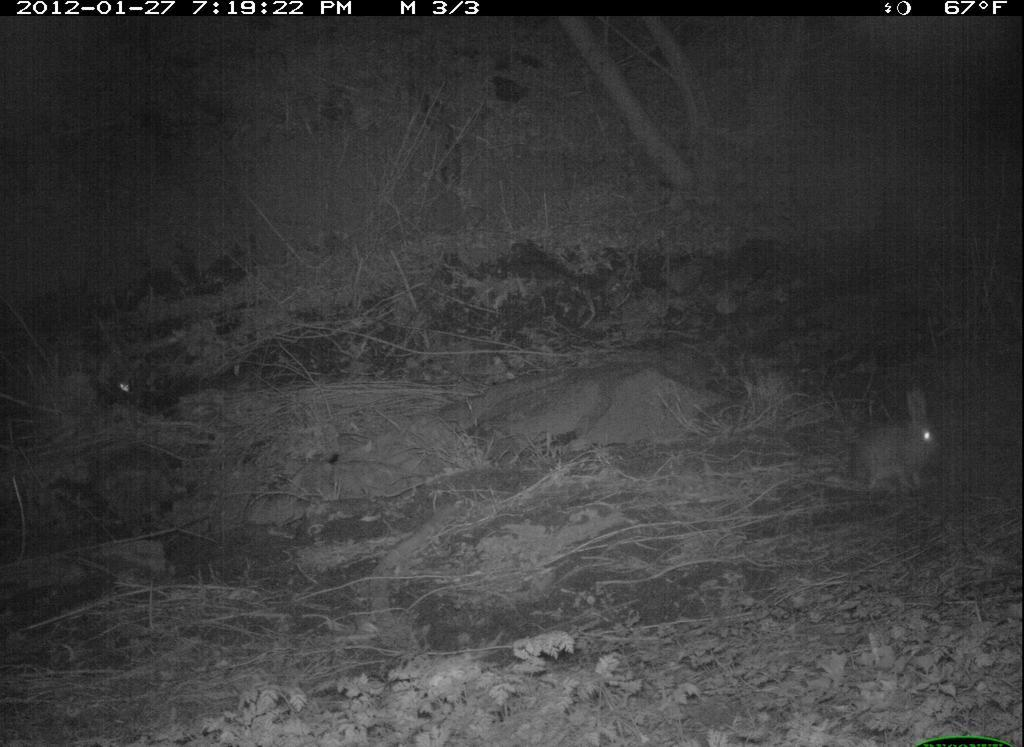rabbit: (827, 376, 963, 509)
